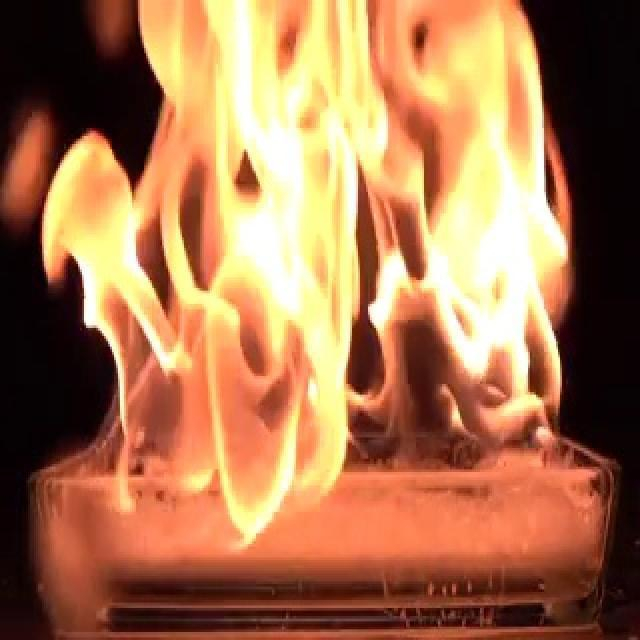fire: (40, 0, 591, 556)
